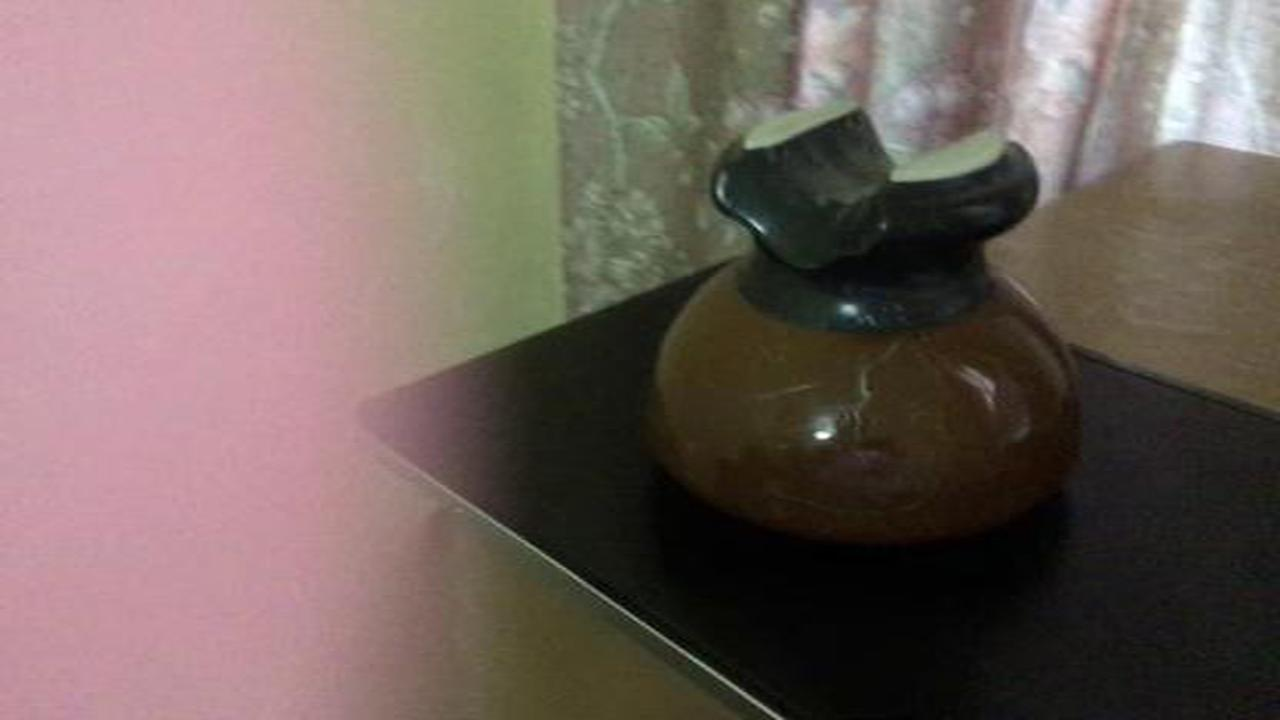insulator_pin: (644, 92, 1108, 568)
